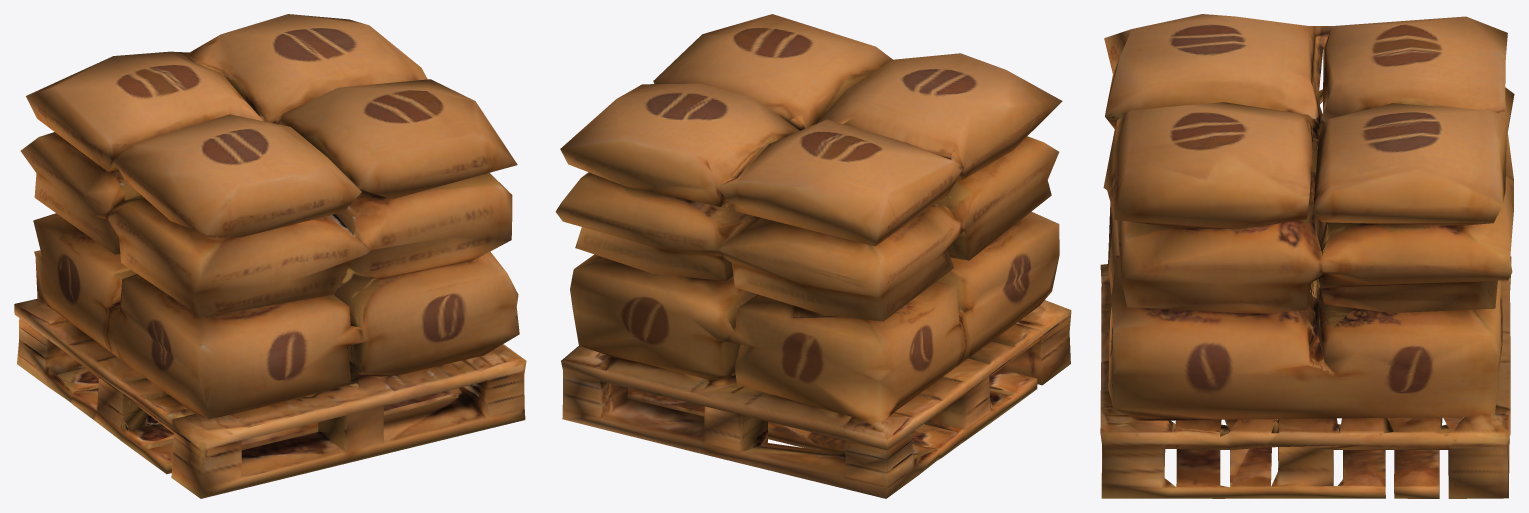
File: Coffee_Bean_Pallet_0726174415_texture.fbx
The picture shows the model from 3 angles, left to right: view 1: azimuth 30°, elevation 25°; view 2: azimuth 150°, elevation 25°; view 3: azimuth 270°, elevation 25°; orthographic projection. The views are drawn at different scales.
Visible parts, largest first — view 1: Mesh_0; view 2: Mesh_0; view 3: Mesh_0.
Part boxes in pixels (x1,y1,x2,y2): Mesh_0: (14,14,526,498); Mesh_0: (555,14,1071,498); Mesh_0: (1100,14,1514,498).
Size of the model in its own units: 196 by 170 by 192.
Materials: 1 (1 with a texture image).
